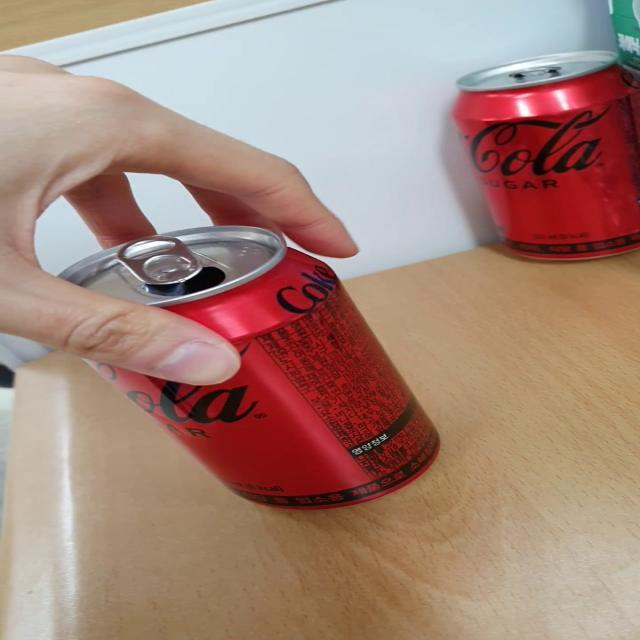coca-cola: (40, 218, 488, 518), (443, 48, 640, 270)
